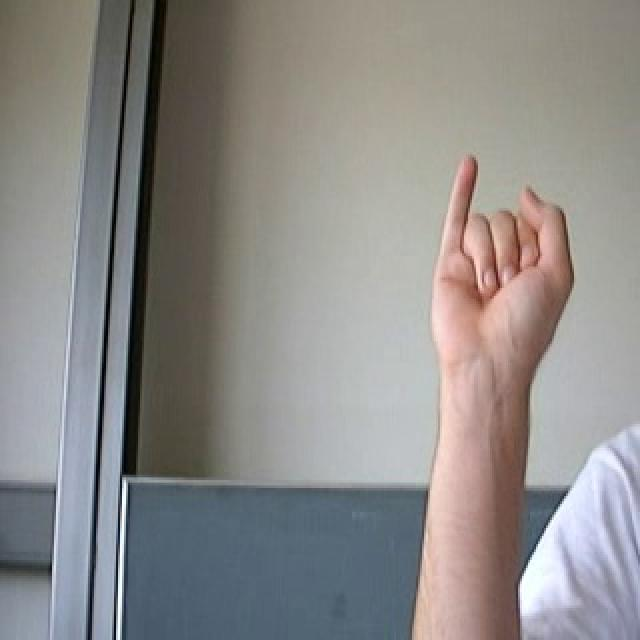I: (418, 129, 587, 367)
